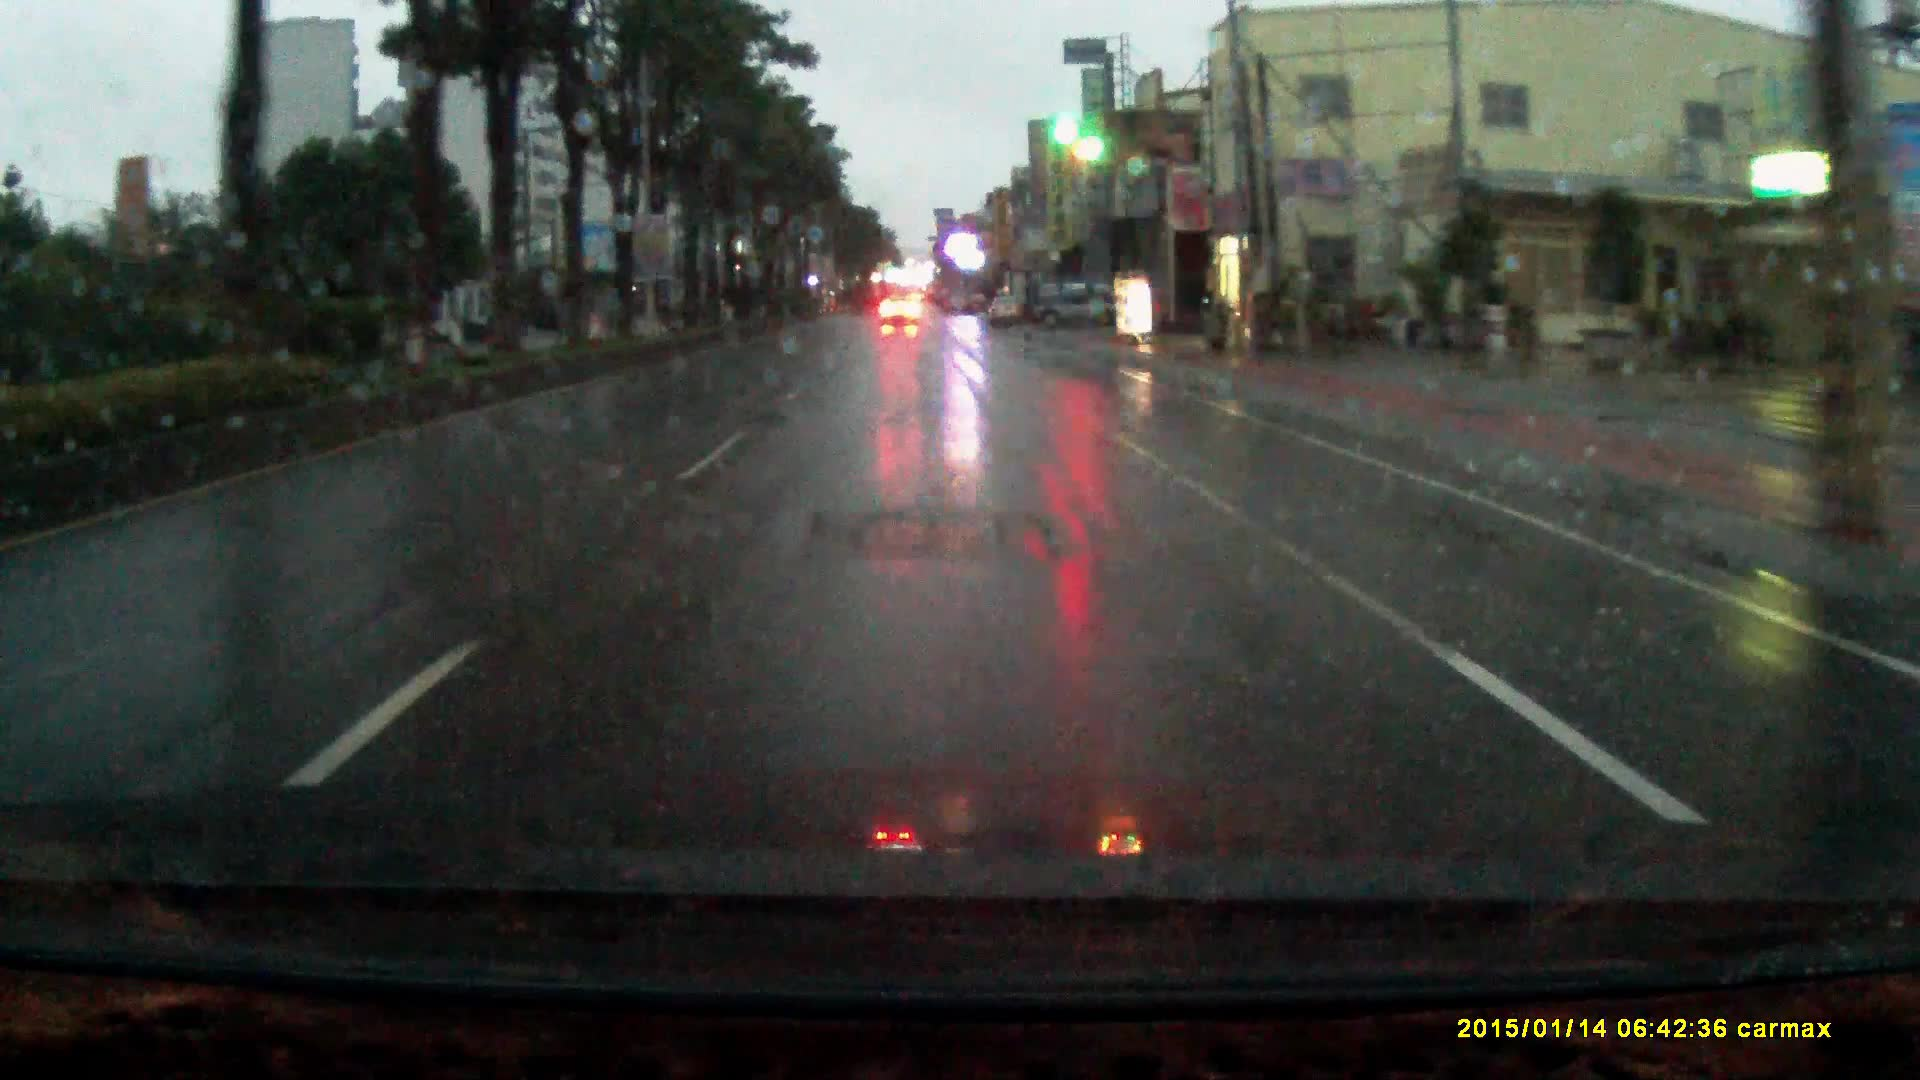vehicle: (1033, 272, 1121, 324), (880, 291, 924, 326)
